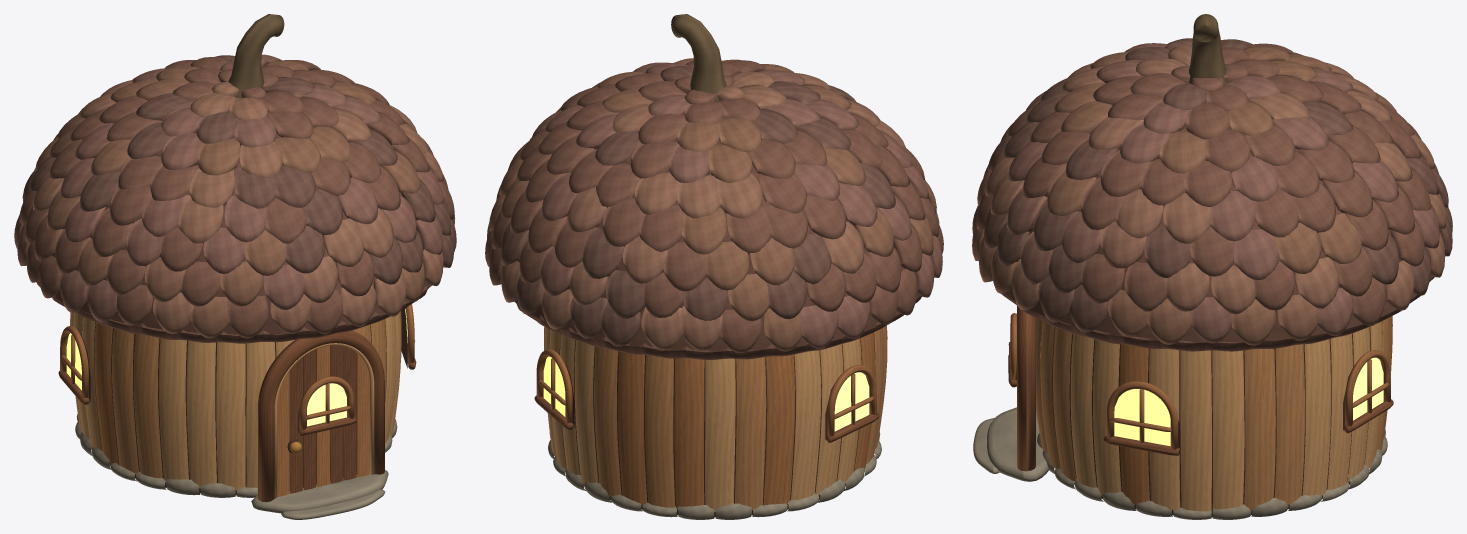
File: SM_ValleyAcornCottage.fbx
3 views of the same model, side by side, from view 1: azimuth 30°, elevation 25°; view 2: azimuth 150°, elevation 25°; view 3: azimuth 270°, elevation 25° (orthographic). The views are drawn at different scales.
Visible parts, largest first — view 1: SM_ValleyAcornCottage; view 2: SM_ValleyAcornCottage; view 3: SM_ValleyAcornCottage.
Part boxes in pixels (<box>): SM_ValleyAcornCottage: <box>14,14,456,519</box>; SM_ValleyAcornCottage: <box>485,14,943,519</box>; SM_ValleyAcornCottage: <box>972,14,1452,519</box>.
Size of the model in its own units: 466 by 479 by 463.
Materials: 2 (1 with a texture image).
